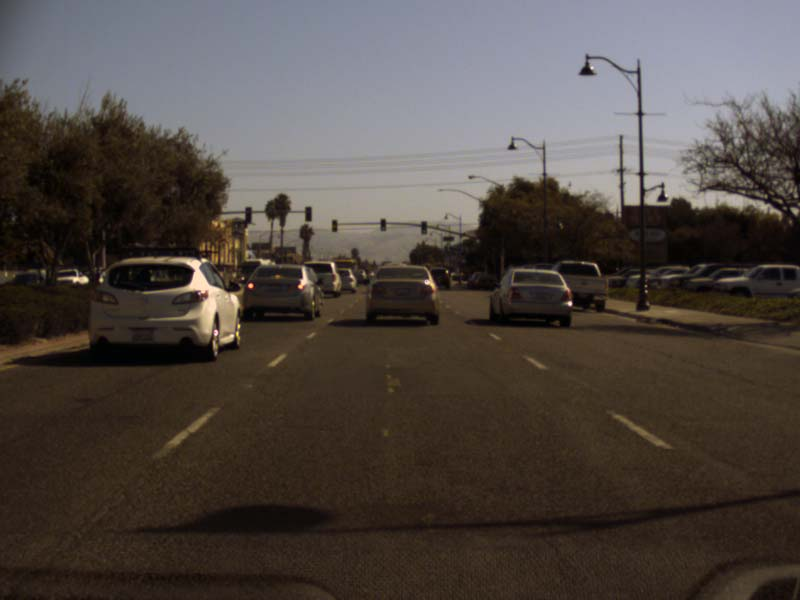Green: (420, 221, 426, 234), (380, 218, 385, 231), (490, 242, 495, 252)
Yellow: (331, 219, 336, 231)
